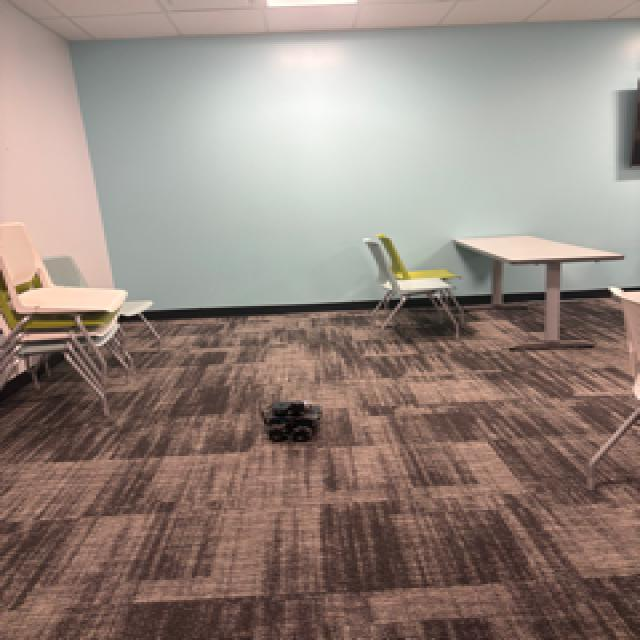ArduinoCar3: (261, 396, 326, 439)
